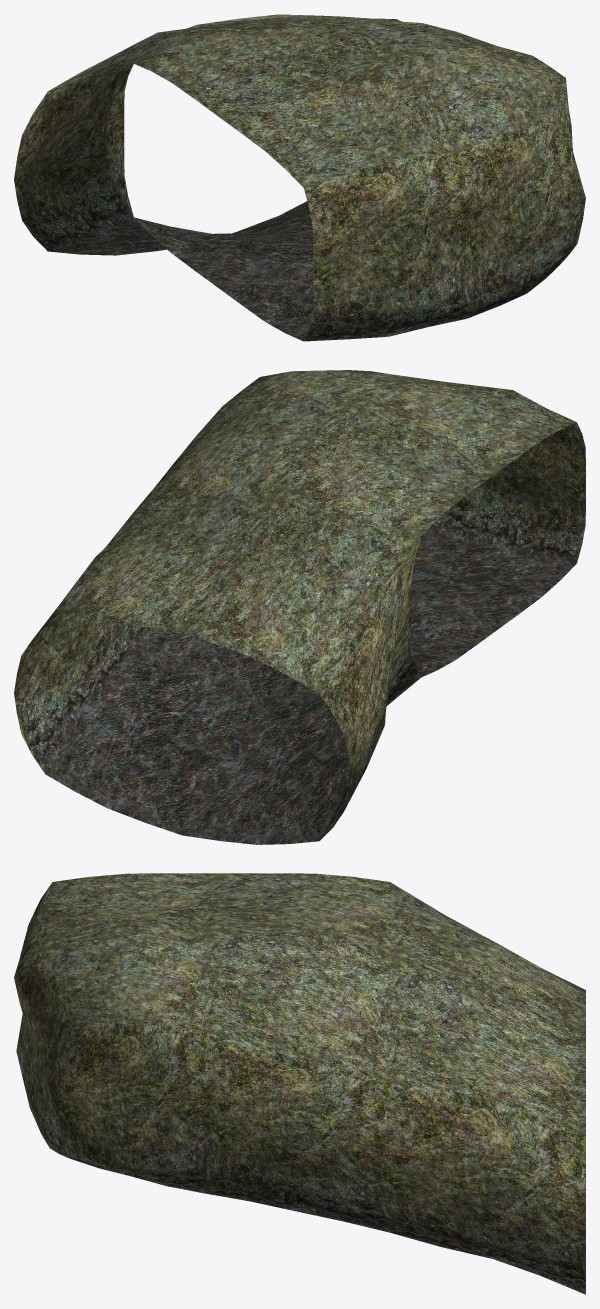
File: thm_all_cave_s03_damprock_mirror_r21_r21.fbx
3 views of the same model, one above another, from view 1: azimuth 30°, elevation 25°; view 2: azimuth 150°, elevation 25°; view 3: azimuth 270°, elevation 25° (orthographic). The views are drawn at different scales.
Visible parts, largest first — view 1: mesh_node; view 2: mesh_node; view 3: mesh_node.
Boxes of the visible parts, left/top/right/bottom form: mesh_node: left=14, top=14, right=585, bottom=341; mesh_node: left=14, top=370, right=585, bottom=844; mesh_node: left=14, top=873, right=585, bottom=1294.
Bounding box in the file's own units: 17.9 × 15.47 × 24.28.
